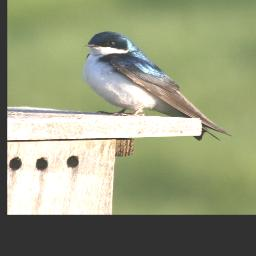Swallow: (80, 30, 234, 147)
